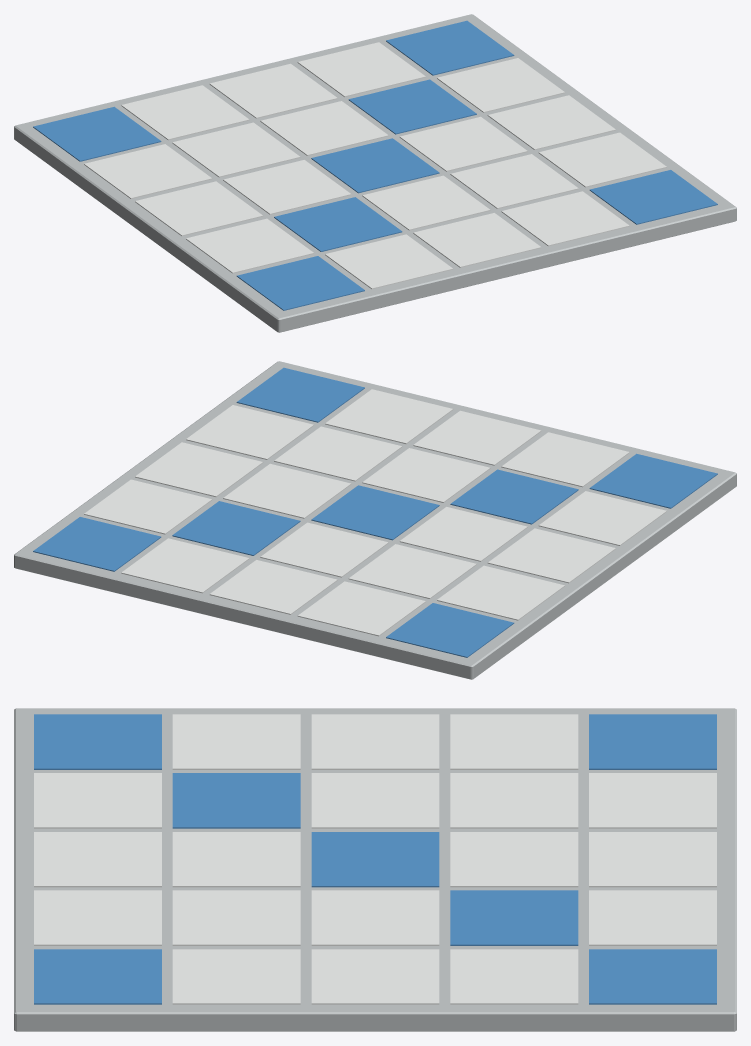
File: public-swimming-baths-and-poolside-pool-tank-floor-til-217f477c__35234.glb
3 views of the same model, one above another, from view 1: azimuth 30°, elevation 25°; view 2: azimuth 150°, elevation 25°; view 3: azimuth 270°, elevation 25° (orthographic). The views are drawn at different scales.
Visible parts, largest first — view 1: pool-tank-floor-tile; view 2: pool-tank-floor-tile; view 3: pool-tank-floor-tile.
Part boxes in pixels (<box>): pool-tank-floor-tile: <box>14,14,736,332</box>; pool-tank-floor-tile: <box>14,361,736,679</box>; pool-tank-floor-tile: <box>14,708,736,1031</box>.
Bounding box in the file's own units: 2 × 0.064 × 2.
